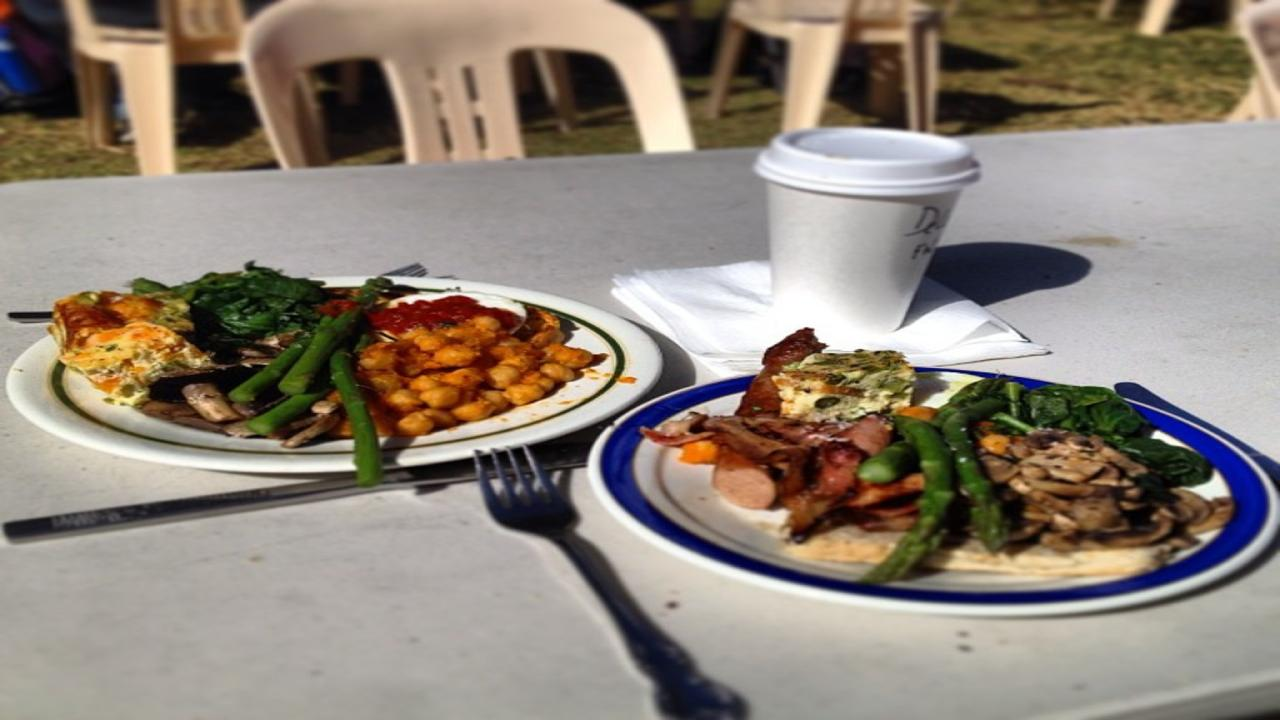fork: (468, 442, 752, 720), (376, 262, 434, 278)
